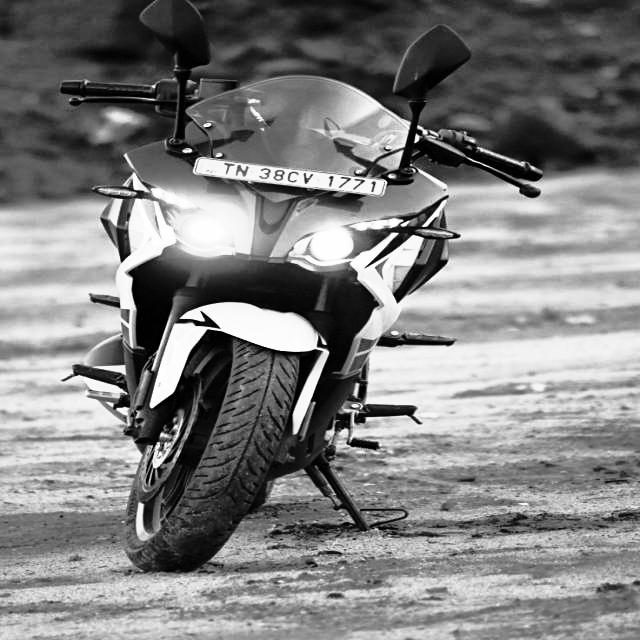Bike: (34, 0, 548, 604)
